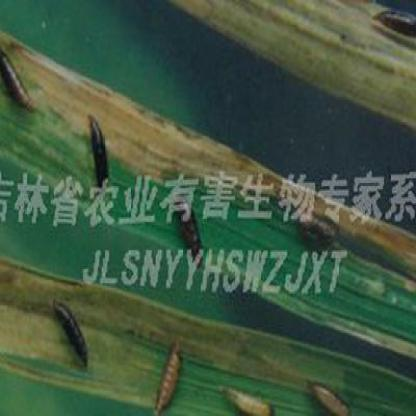whorl-maggot: (46, 295, 91, 382), (141, 339, 186, 416), (0, 40, 42, 122), (208, 370, 274, 416), (300, 370, 360, 416), (80, 102, 115, 173), (369, 0, 416, 47)
